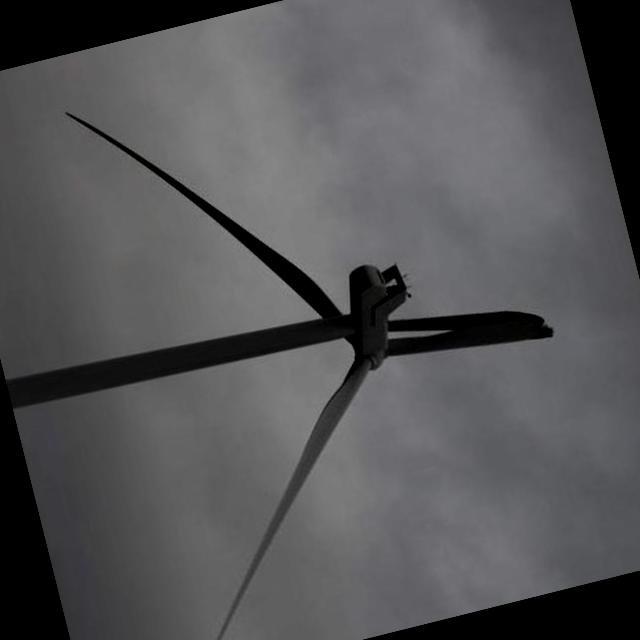crack: (383, 279, 562, 384)
